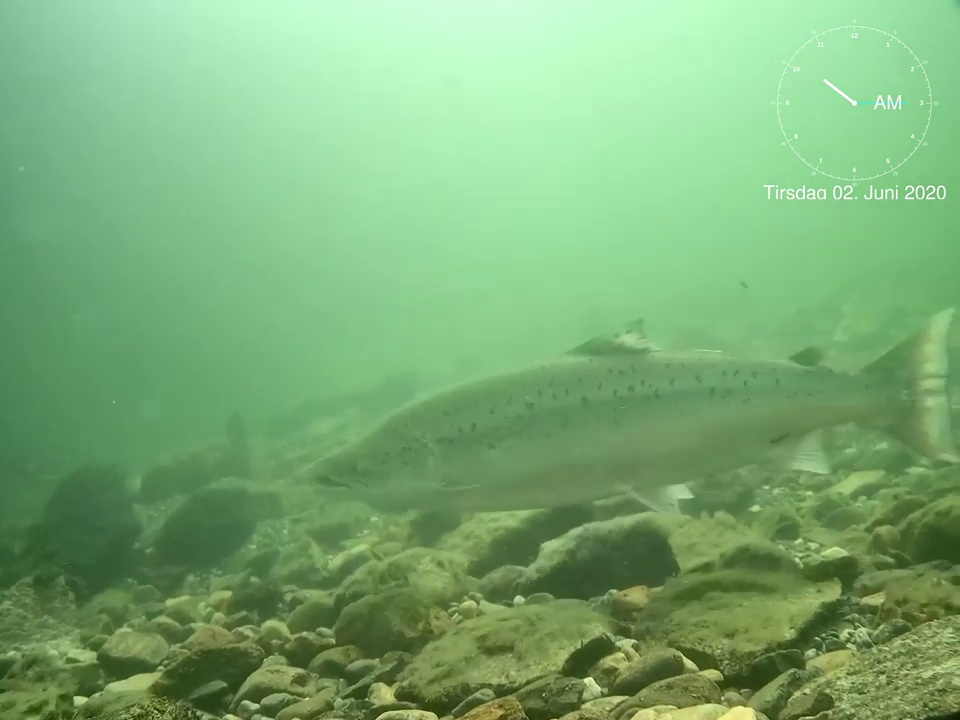salmon: (306, 304, 960, 522)
